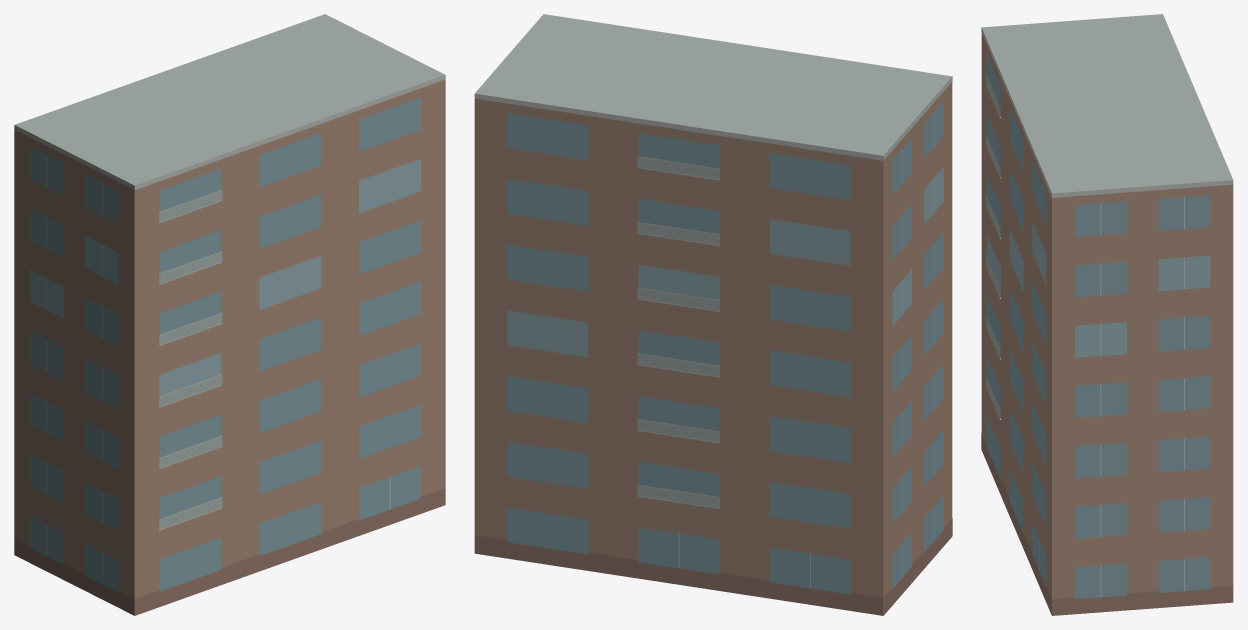
File: survey-upis-32707690.glb
The picture shows the model from 3 angles, left to right: view 1: azimuth 30°, elevation 25°; view 2: azimuth 150°, elevation 25°; view 3: azimuth 270°, elevation 25°; orthographic projection. The views are drawn at different scales.
Parts seen in each view (by area): view 1: survey-upis-32707690.tmp; view 2: survey-upis-32707690.tmp; view 3: survey-upis-32707690.tmp.
Part boxes in pixels (x1,y1,x2,y2): survey-upis-32707690.tmp: (14, 14, 445, 615); survey-upis-32707690.tmp: (474, 14, 952, 615); survey-upis-32707690.tmp: (981, 14, 1233, 615).
Bounding box in the file's own units: 20.69 × 22.7 × 12.28.
